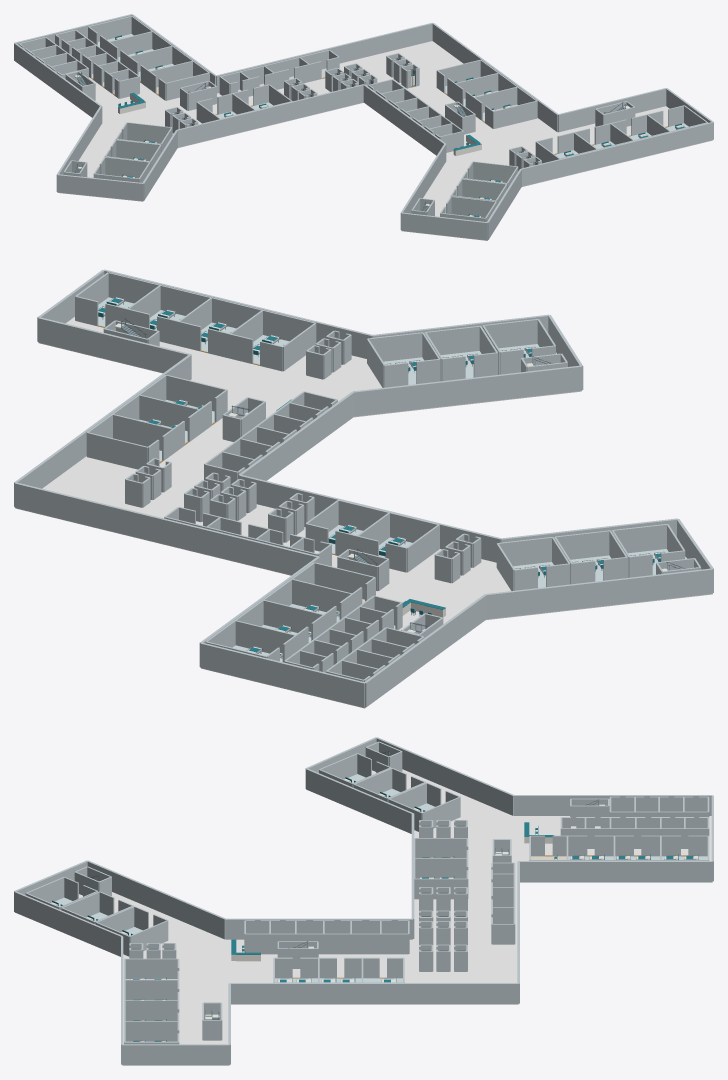
File: dushu-F8-11.glb
3 views of the same model, one above another, from view 1: azimuth 30°, elevation 25°; view 2: azimuth 150°, elevation 25°; view 3: azimuth 270°, elevation 25° (orthographic). The views are drawn at different scales.
Visible parts, largest first — view 1: Floor slab, wall-6, wall-11, wall-2, wall-13, wall-8, wall-15, wall-10, wall-4, wall-3, wall-9, wall-94 (+22 smaller); view 2: Floor slab, wall-2, wall-9, wall-14, wall-0, wall-4, wall-15, wall-10, wall-11, wall-3, wall-84, wall-6 (+26 smaller); view 3: Floor slab, wall-3, wall-1, wall-9, wall-14, wall-5, wall-12, wall-7, wall-15, wall-10, wall-99, wall-108 (+19 smaller).
Boxes of the visible parts, bbox=[...] form: Floor slab: bbox=[57, 41, 712, 240]; wall-6: bbox=[520, 122, 713, 186]; wall-11: bbox=[176, 84, 363, 147]; wall-2: bbox=[216, 22, 432, 93]; wall-13: bbox=[57, 174, 143, 200]; wall-8: bbox=[401, 212, 487, 240]; wall-15: bbox=[14, 43, 101, 117]; wall-10: bbox=[363, 84, 445, 155]; wall-4: bbox=[558, 88, 666, 132]; wall-3: bbox=[432, 23, 558, 131]; wall-9: bbox=[400, 144, 446, 229]; wall-94: bbox=[493, 101, 537, 128]; Floor slab: bbox=[15, 317, 712, 708]; wall-2: bbox=[14, 482, 319, 575]; wall-9: bbox=[353, 365, 581, 416]; wall-14: bbox=[485, 568, 712, 619]; wall-0: bbox=[200, 643, 365, 707]; wall-4: bbox=[38, 317, 191, 372]; wall-15: bbox=[364, 594, 486, 707]; wall-10: bbox=[238, 391, 354, 480]; wall-11: bbox=[239, 474, 501, 562]; wall-3: bbox=[14, 354, 191, 506]; wall-84: bbox=[87, 432, 147, 469]; wall-6: bbox=[104, 269, 372, 358]; Floor slab: bbox=[15, 769, 712, 1065]; wall-3: bbox=[229, 983, 518, 1003]; wall-1: bbox=[518, 861, 712, 881]; wall-9: bbox=[87, 860, 225, 939]; wall-14: bbox=[376, 737, 514, 815]; wall-5: bbox=[122, 1044, 229, 1065]; wall-12: bbox=[305, 768, 413, 833]; wall-7: bbox=[14, 891, 122, 956]; wall-15: bbox=[513, 795, 712, 815]; wall-10: bbox=[225, 918, 412, 939]; wall-99: bbox=[125, 979, 177, 1000]; wall-108: bbox=[124, 1021, 178, 1041].
Size of the model in its own units: 106 by 4.15 by 102.
